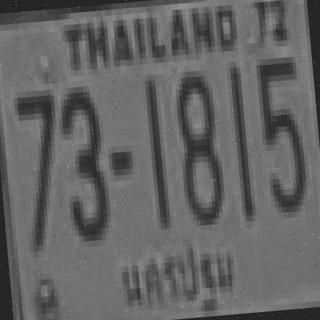N01: (226, 64, 253, 219), (143, 77, 169, 226)
N03: (56, 83, 109, 240)
N05: (255, 54, 308, 210)
N07: (14, 90, 63, 246), (14, 89, 61, 218)
N08: (174, 70, 223, 220)
P28: (112, 234, 238, 320)
